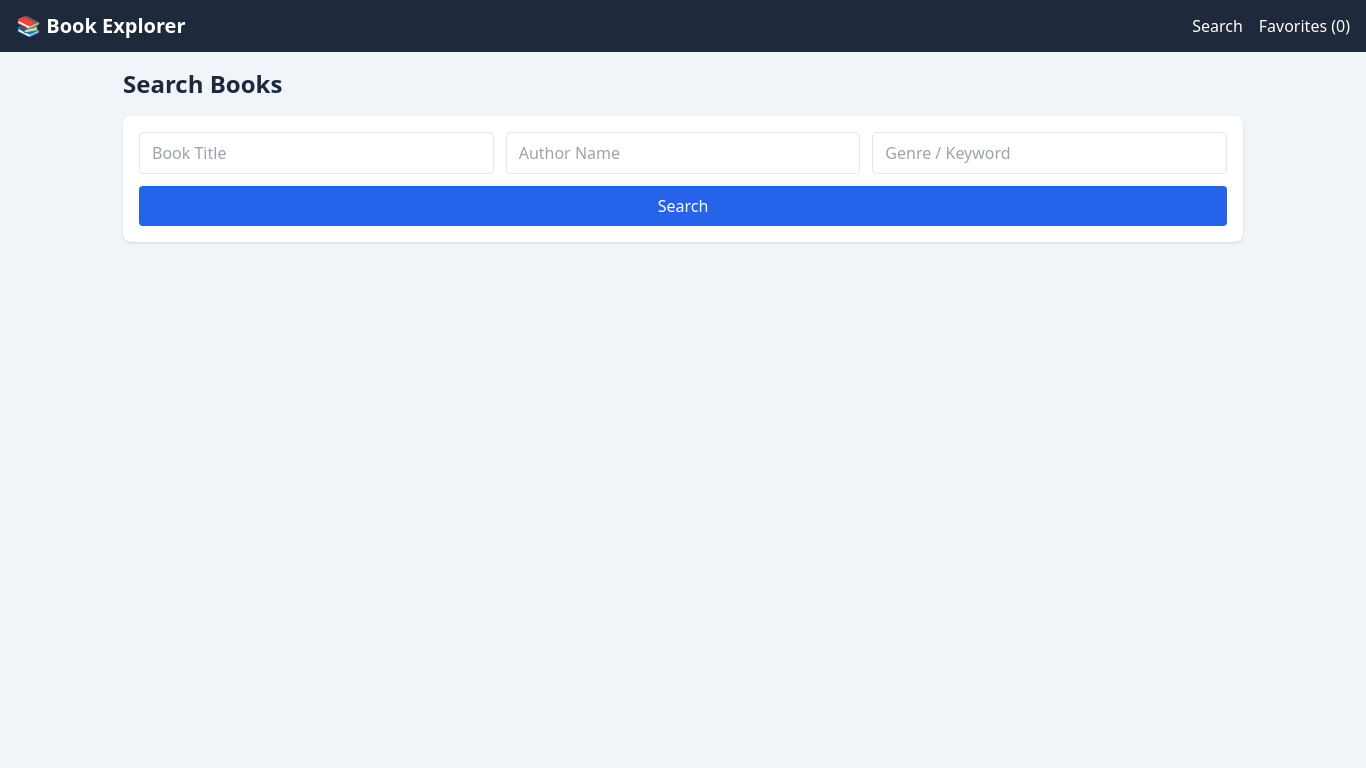
navigates from search results to the book details page
Type "React" into the field labelled "Book Title" at (316, 153), box [139, 132, 494, 174]
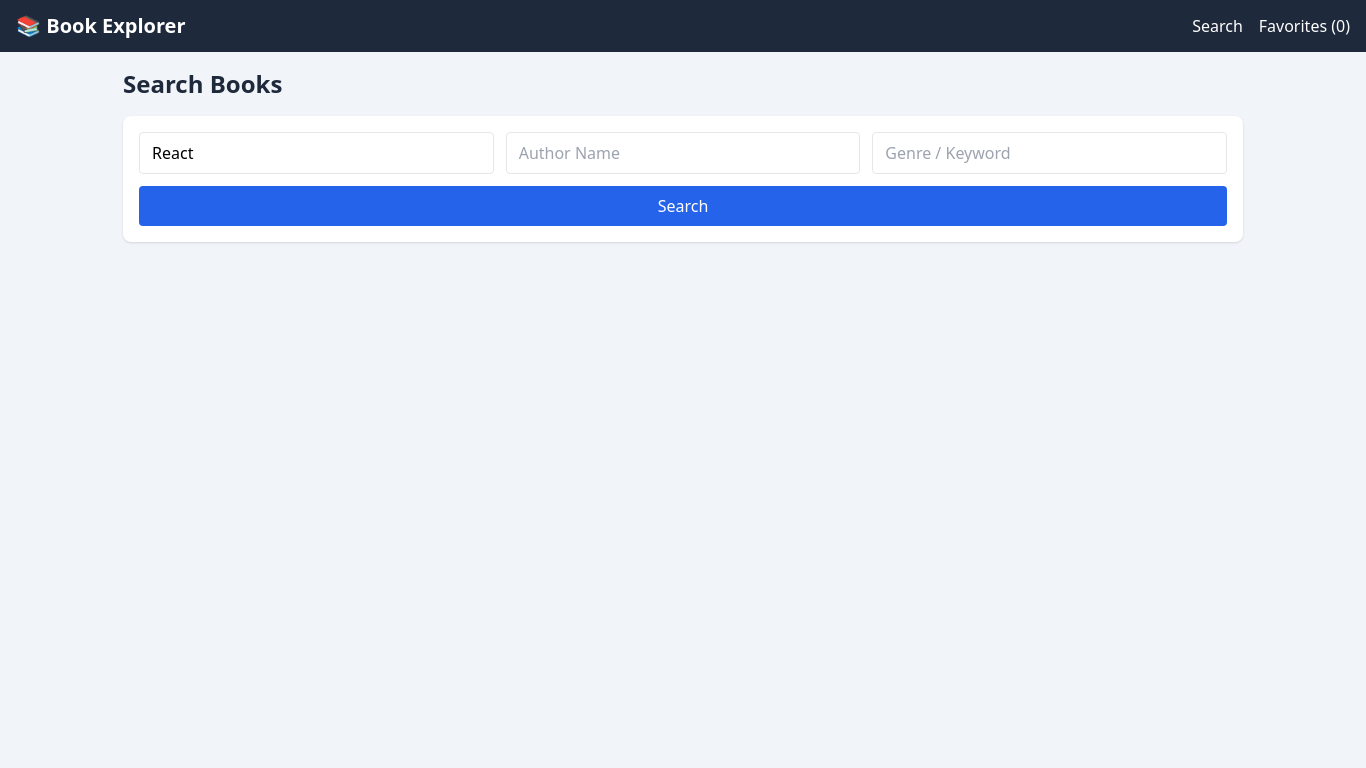
Click the button "Search" at (683, 206), box [139, 186, 1227, 226]
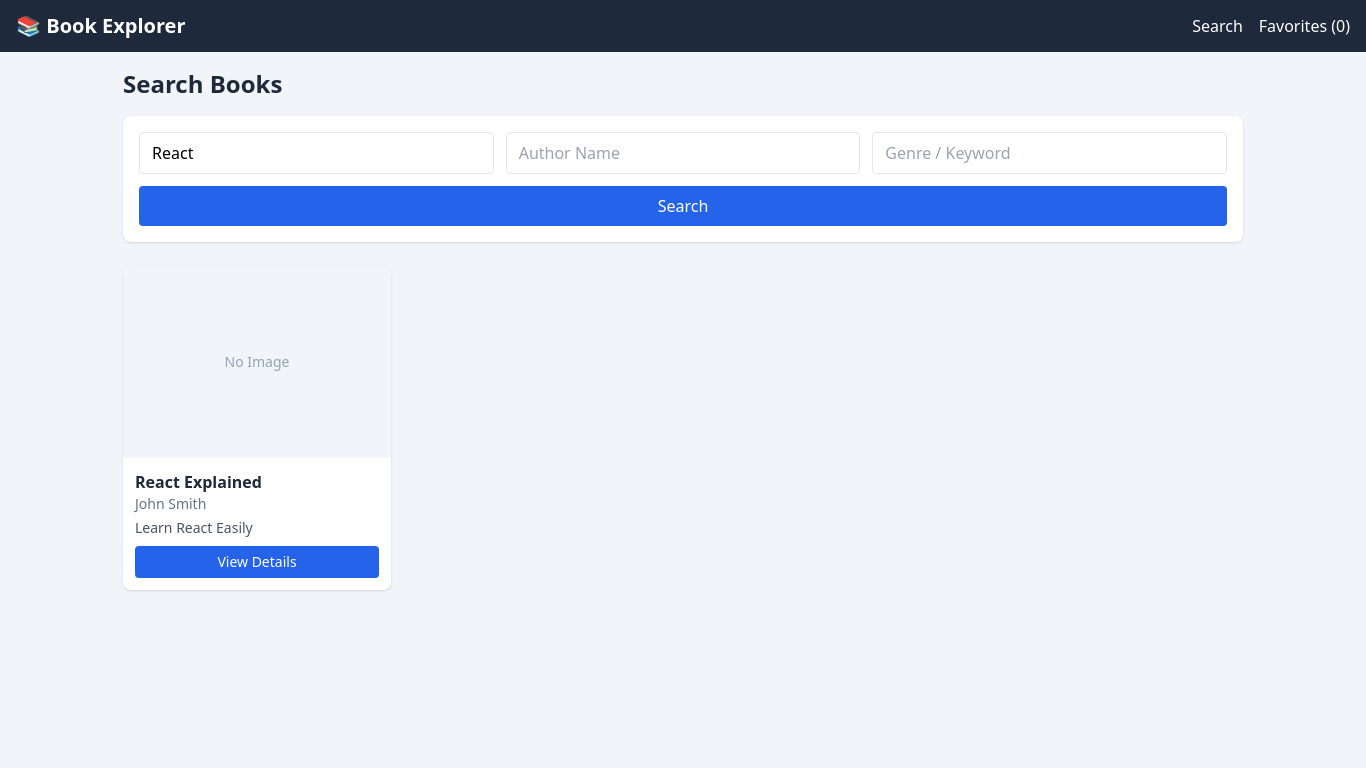
Click the link "View Details" at (257, 562), box [135, 546, 379, 578]
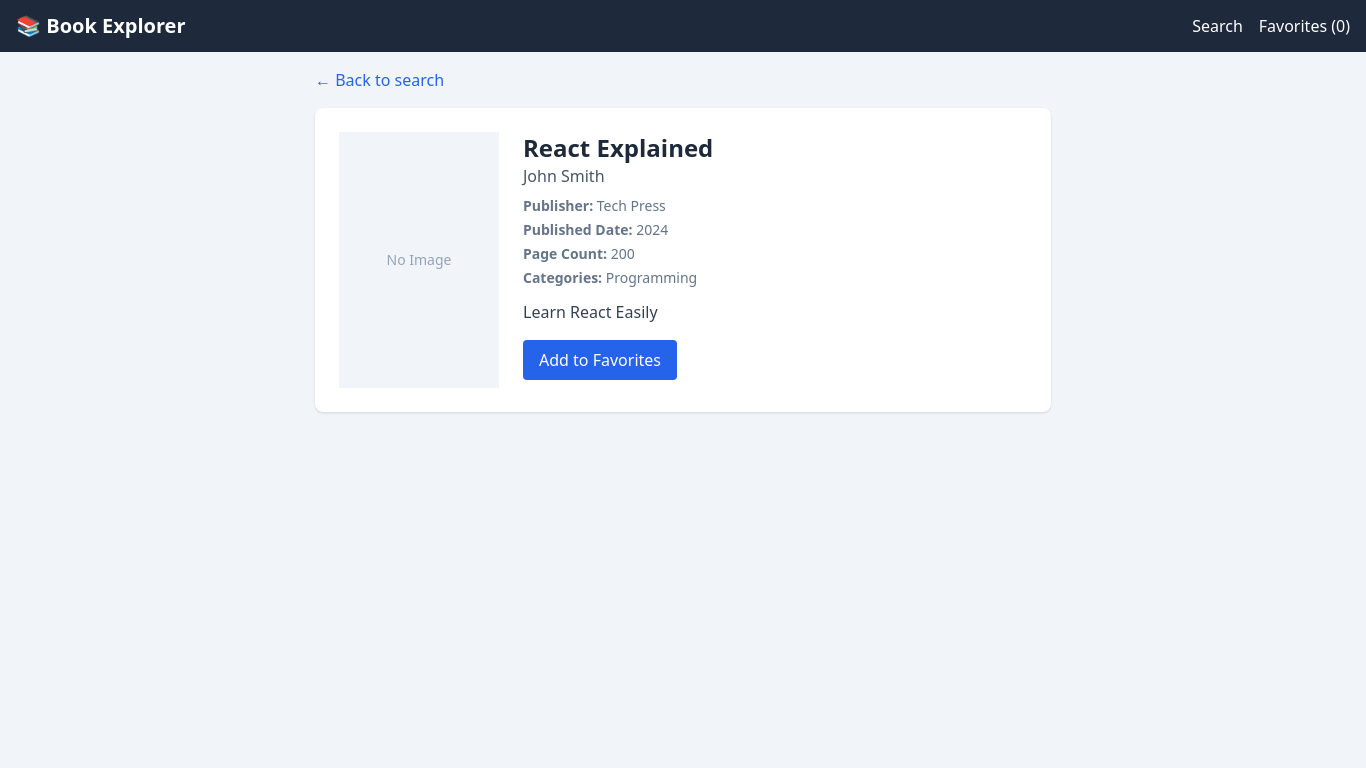
Expected: the text "Tech Press" is shown, [597, 196, 666, 215]
